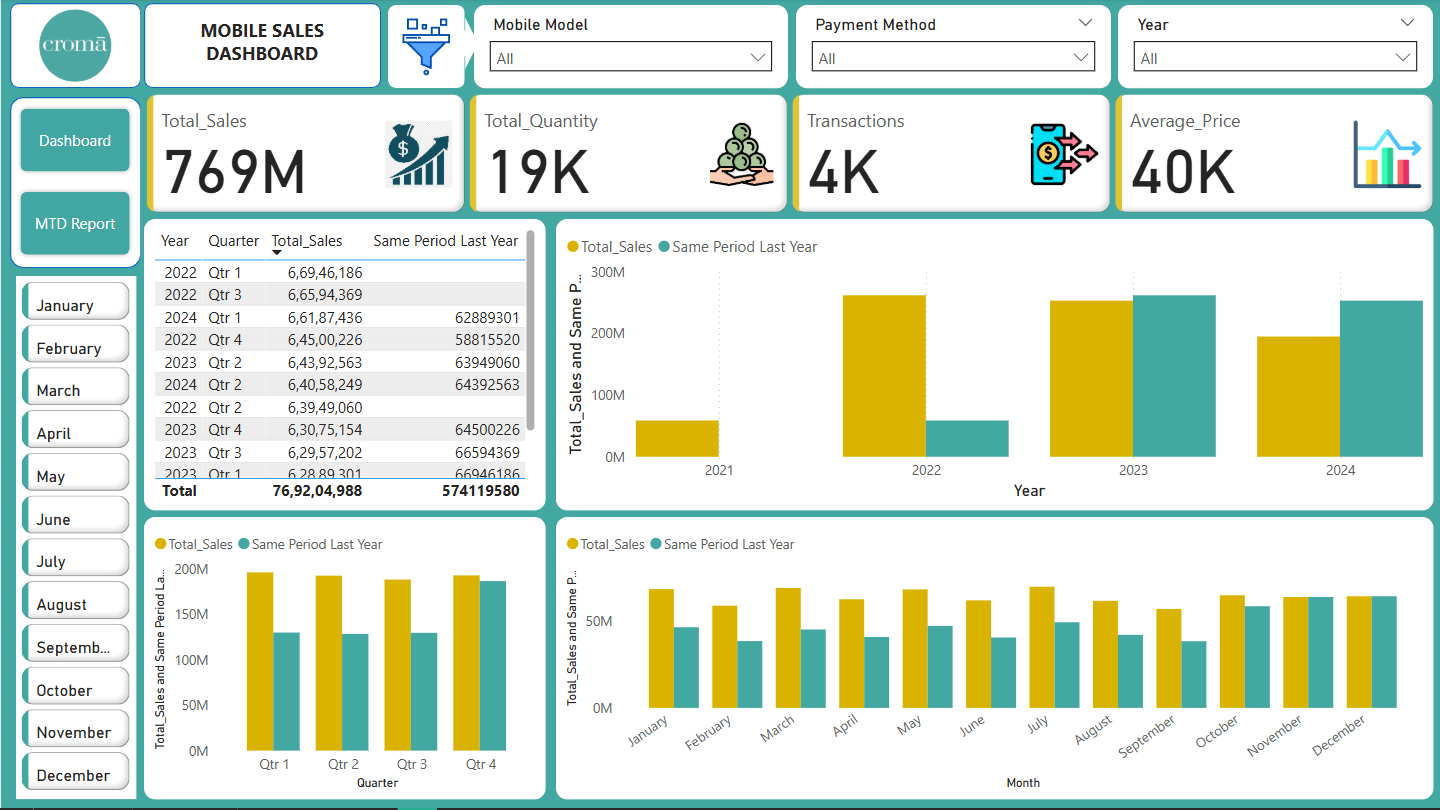

The page's visual inventory and layout, read from the dashboard file:
{"tool":"powerbi","page":{"name":"Same Period Last Year","canvas":[1280,720],"ordinal":2},"visuals":[{"type":"shape","box":[8,4.4,116.4,75.6],"z":0},{"type":"image","box":[8,5.3,116.4,73.8],"z":1000},{"type":"shape","box":[8,88,116.4,152],"z":2000},{"type":"cardVisual","fields":{"Data":["Sales_Data.Total_Sales","Sales_Data.Total_Quantity","Sales_Data.Transactions","Sales_Data.Average_Price"]},"box":[124.4,80,1155.6,116.4],"z":3000},{"type":"slicer","fields":{"Values":["Sales_Data.Mobile Model"]},"box":[420.4,6.2,279.1,73.8],"z":4000},{"type":"slicer","fields":{"Values":["Sales_Data.Payment Method"]},"box":[706.7,6.2,280,73.8],"z":5000},{"type":"slicer","fields":{"Values":["Custom_Calender.Date.Variation.Date Hierarchy.Year"]},"box":[992.9,6.2,280,73.8],"z":6000},{"type":"shape","box":[344,6.2,68.4,73.8],"z":7000},{"type":"image","box":[344,12.4,68.4,62.2],"z":8000},{"type":"shape","box":[127.1,4.4,210.7,75.6],"z":9000},{"type":"textbox","box":[134.2,12.4,195.6,62.2],"z":10000},{"type":"shape","box":[400.7,16.5,23.3,46.7],"z":11000},{"type":"tableEx","fields":{"Values":["Custom_Calender.Date.Variation.Date Hierarchy.Year","Custom_Calender.Date.Variation.Date Hierarchy.Quarter","Sales_Data.Total_Sales","Sales_Data.Same Period Last Year"]},"box":[127.1,196.4,357.3,258.7],"z":12000},{"type":"advancedSlicerVisual","fields":{"Values":["Custom_Calender.Date.Variation.Date Hierarchy.Month"]},"box":[13.3,247.1,106.7,464.9],"z":13000},{"type":"clusteredColumnChart","fields":{"Category":["Custom_Calender.Date.Variation.Date Hierarchy.Year","Custom_Calender.Date.Variation.Date Hierarchy.Quarter"],"Y":["Sales_Data.Total_Sales","Sales_Data.Same Period Last Year"]},"box":[493.3,196.4,779.6,258.7],"z":13001},{"type":"clusteredColumnChart","fields":{"Y":["Sales_Data.Total_Sales","Sales_Data.Same Period Last Year"],"Category":["Custom_Calender.Date.Variation.Date Hierarchy.Year","Custom_Calender.Date.Variation.Date Hierarchy.Quarter","Custom_Calender.Date.Variation.Date Hierarchy.Month","Custom_Calender.Date.Variation.Date Hierarchy.Day"]},"box":[493.3,461.3,779.6,250.7],"z":13002},{"type":"clusteredColumnChart","fields":{"Category":["Custom_Calender.Date.Variation.Date Hierarchy.Year","Custom_Calender.Date.Variation.Date Hierarchy.Quarter"],"Y":["Sales_Data.Total_Sales","Sales_Data.Same Period Last Year"]},"box":[127.1,461.3,357.3,250.7],"z":13003},{"type":"pageNavigator","box":[13.3,94.2,105.8,138.7],"z":13004}]}

Visuals, with their boxes in screenshot pixels (x1, y1, x2, y2), scaled from the page's 1280x720 canvas onto the 1440x810 screenshot:
shape: (x1=9, y1=5, x2=140, y2=90)
image: (x1=9, y1=6, x2=140, y2=89)
shape: (x1=9, y1=99, x2=140, y2=270)
cardVisual - Sales_Data.Total_Sales x Sales_Data.Total_Quantity: (x1=140, y1=90, x2=1439, y2=221)
slicer - Sales_Data.Mobile Model: (x1=473, y1=7, x2=787, y2=90)
slicer - Sales_Data.Payment Method: (x1=795, y1=7, x2=1110, y2=90)
slicer - Custom_Calender.Date.Variation.Date Hierarchy.Year: (x1=1117, y1=7, x2=1432, y2=90)
shape: (x1=387, y1=7, x2=464, y2=90)
image: (x1=387, y1=14, x2=464, y2=84)
shape: (x1=143, y1=5, x2=380, y2=90)
textbox: (x1=151, y1=14, x2=371, y2=84)
shape: (x1=451, y1=19, x2=477, y2=71)
tableEx - Custom_Calender.Date.Variation.Date Hierarchy.Year x Custom_Calender.Date.Variation.Date Hierarchy.Quarter: (x1=143, y1=221, x2=545, y2=512)
advancedSlicerVisual - Custom_Calender.Date.Variation.Date Hierarchy.Month: (x1=15, y1=278, x2=135, y2=801)
clusteredColumnChart - Custom_Calender.Date.Variation.Date Hierarchy.Year x Custom_Calender.Date.Variation.Date Hierarchy.Quarter: (x1=555, y1=221, x2=1432, y2=512)
clusteredColumnChart - Sales_Data.Total_Sales x Sales_Data.Same Period Last Year: (x1=555, y1=519, x2=1432, y2=801)
clusteredColumnChart - Custom_Calender.Date.Variation.Date Hierarchy.Year x Custom_Calender.Date.Variation.Date Hierarchy.Quarter: (x1=143, y1=519, x2=545, y2=801)
pageNavigator: (x1=15, y1=106, x2=134, y2=262)
